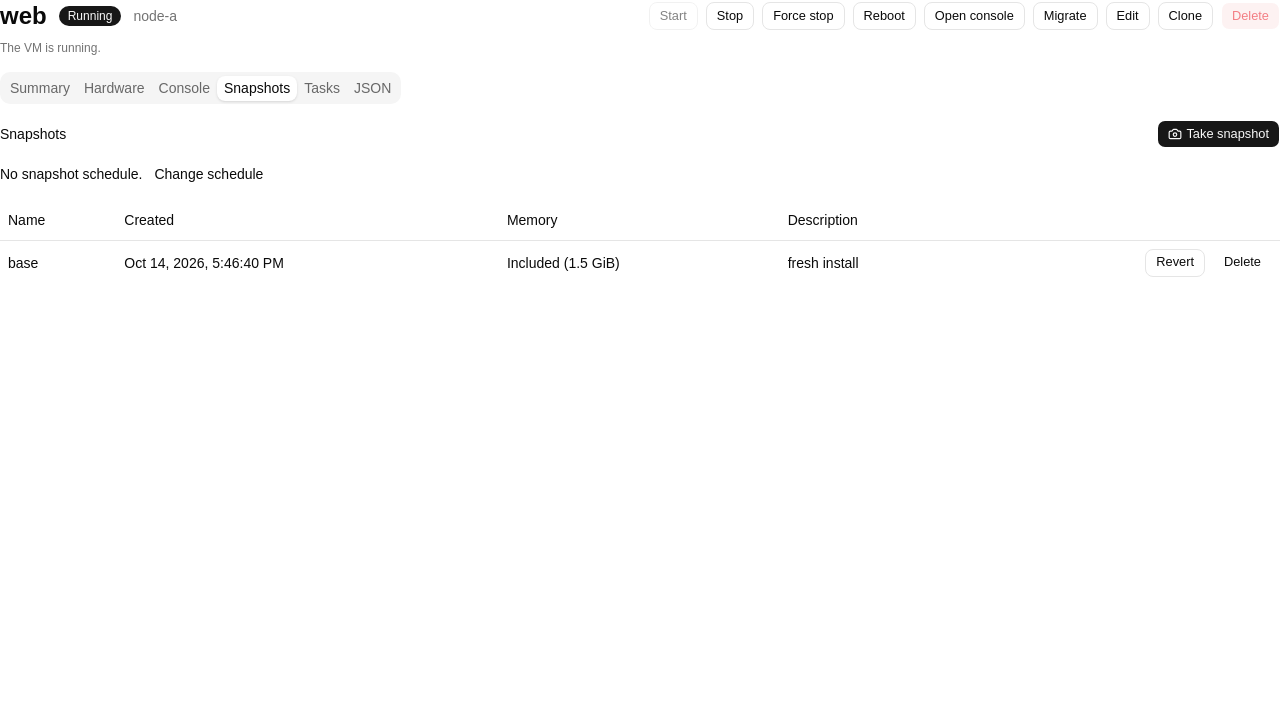
Test case: deletes a snapshot after confirming and shows why it could not
The width and height of the screenshot is (1280, 720).
Step 1. Click the button with aria-label "Delete snapshot base" → click(1242, 262), box [1213,248,1272,276]
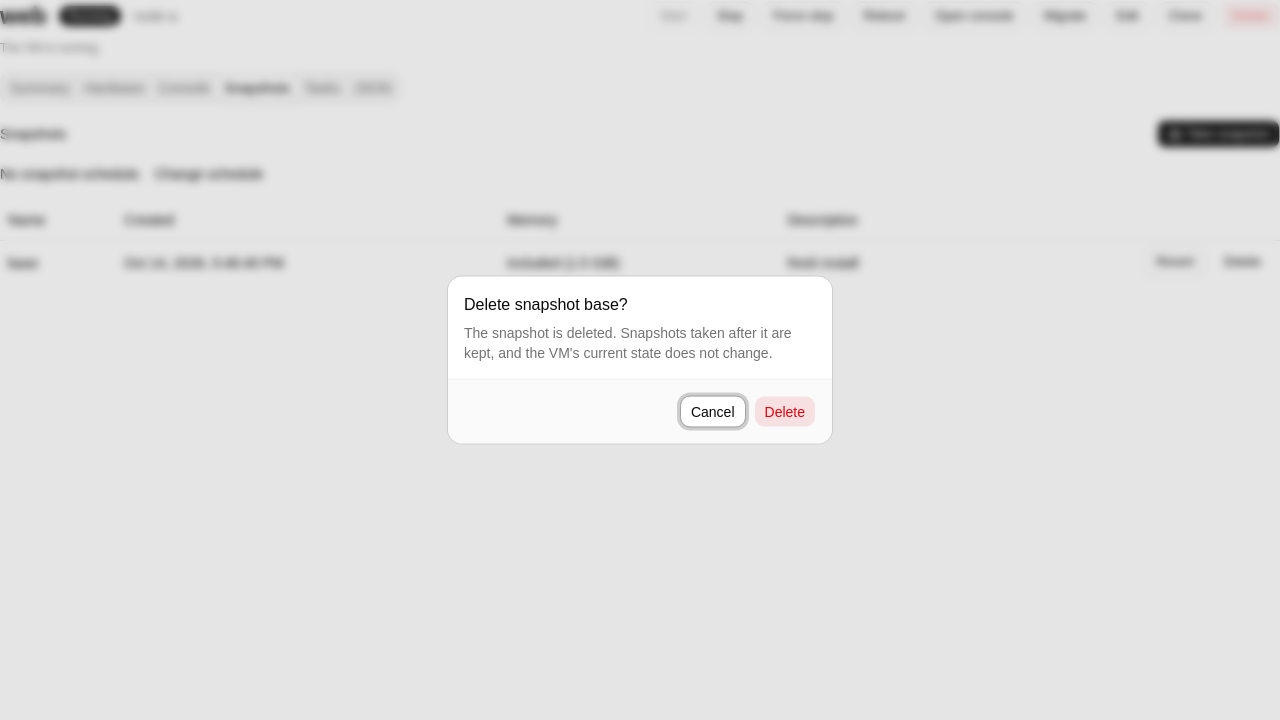
Step 2. Click the button "Delete" → click(785, 412), box [754,396,816,428]
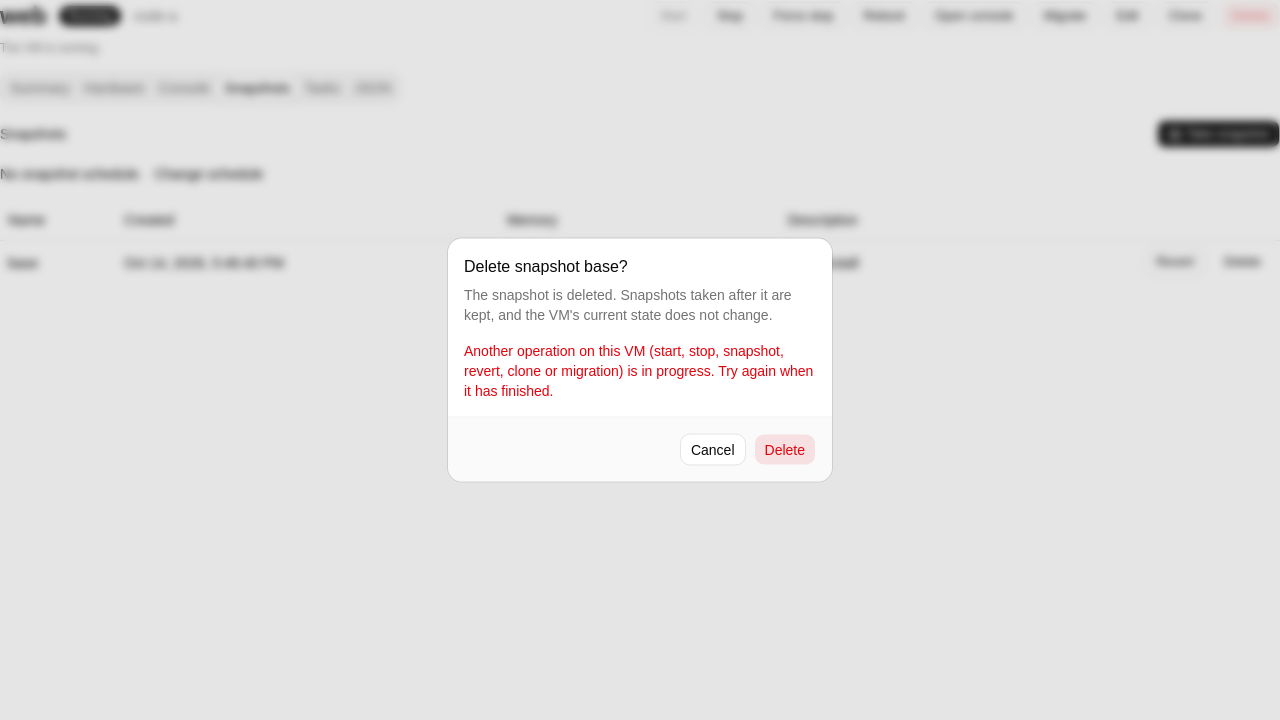
Result: the message shows "Another operation on this VM (start, stop, snapshot, revert, clone or migration) is in progress. Try again when it has finished." at [464,342,813,398]
Step 3. Click the button "Delete" → click(785, 450), box [754,434,816,466]
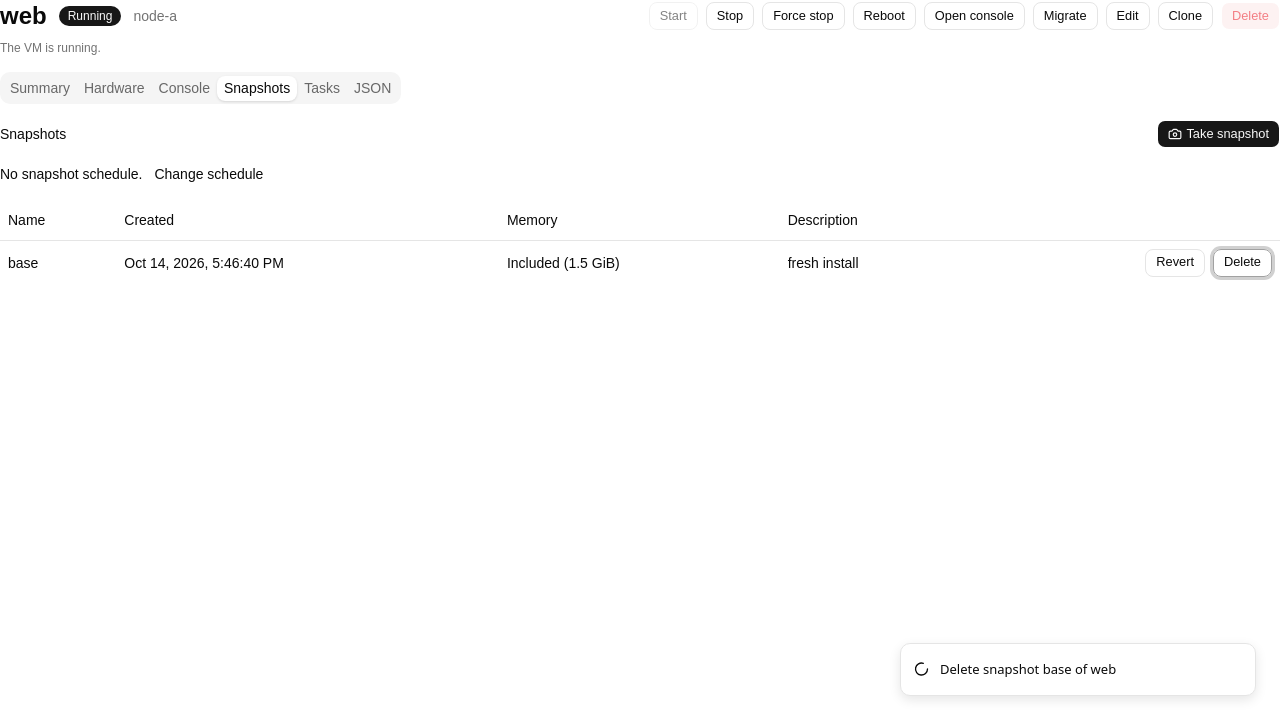
Result: the text "Delete snapshot base of web" is shown at [940,660,1116,679]
